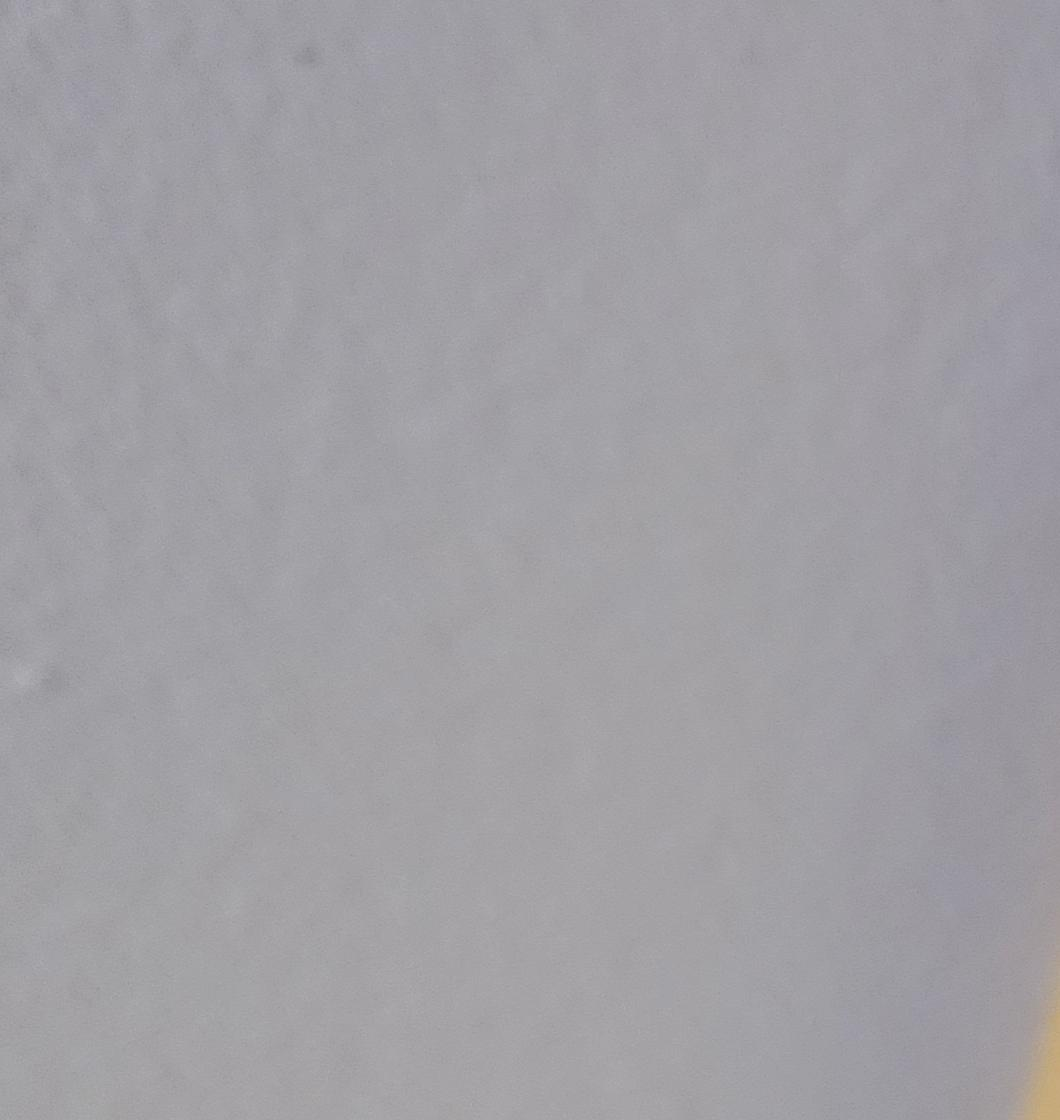Chip: (1, 165, 765, 1120)
